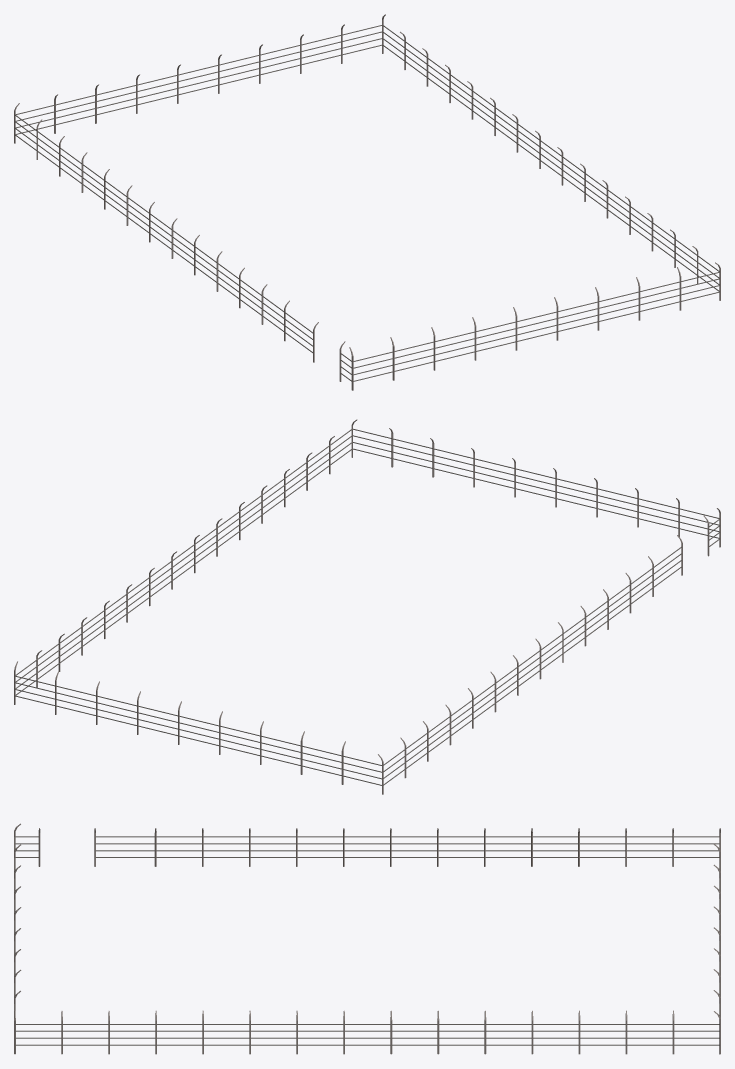
Rendered from FootballFence_01.fbx.
3 views of the same model, one above another, from view 1: azimuth 30°, elevation 25°; view 2: azimuth 150°, elevation 25°; view 3: azimuth 270°, elevation 25° (orthographic). The views are drawn at different scales.
Visible parts, largest first — view 1: FootballFence_01; view 2: FootballFence_01; view 3: FootballFence_01.
Part boxes in pixels (box(x1,y1,x2,y2)): FootballFence_01: box(14, 14, 720, 390); FootballFence_01: box(14, 419, 720, 794); FootballFence_01: box(14, 823, 720, 1054).
Bounding box in the file's own units: 29.96 × 3.2 × 47.55.
